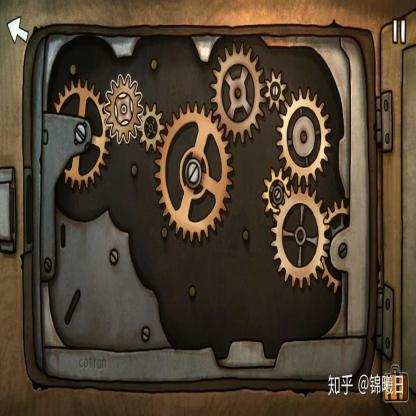FOD: (153, 102, 234, 244), (50, 75, 111, 194), (269, 181, 330, 291), (208, 43, 269, 145), (276, 85, 333, 186), (103, 72, 145, 148), (261, 164, 291, 222), (135, 102, 167, 153), (263, 67, 287, 114)
